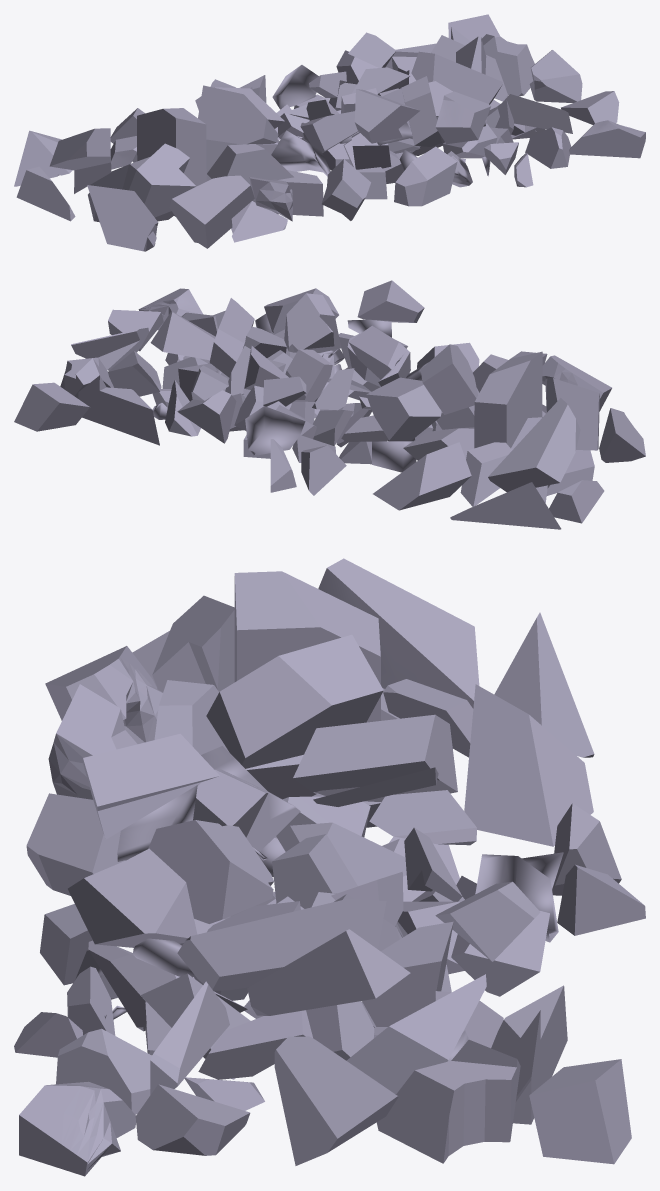
The model's file is SewerSet4_ThinBroken.fbx.
The picture shows the model from 3 angles, top to bottom: view 1: azimuth 30°, elevation 25°; view 2: azimuth 150°, elevation 25°; view 3: azimuth 270°, elevation 25°; orthographic projection. The views are drawn at different scales.
Parts seen in each view (by area): view 1: Box055_Part_69; view 2: Box055_Part_69; view 3: Box055_Part_69.
Part boxes in pixels (x1=…): Box055_Part_69: x1=14, y1=14, x2=645, y2=251; Box055_Part_69: x1=14, y1=280, x2=645, y2=529; Box055_Part_69: x1=14, y1=558, x2=645, y2=1176.
Bounding box in the file's own units: 2448 × 441 × 1296.
